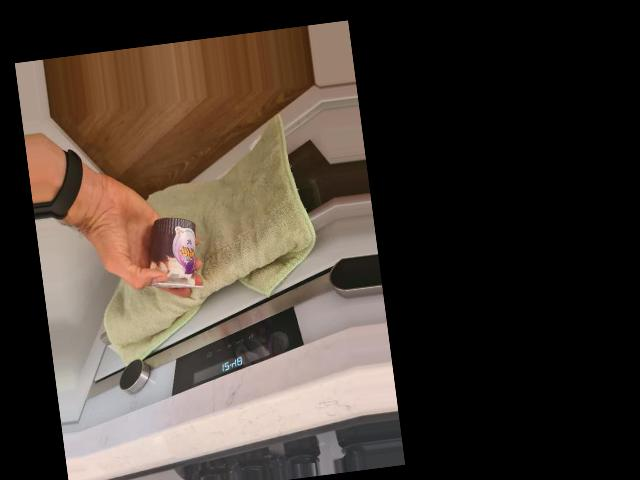milky: (137, 213, 205, 295)
